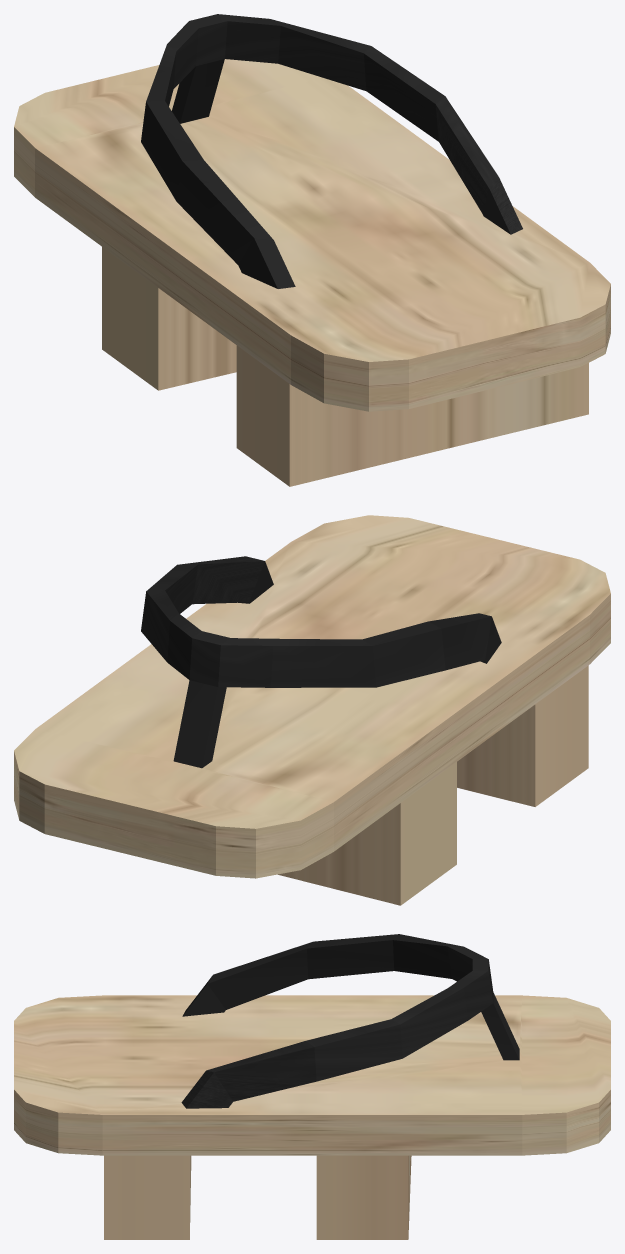
The model's file is getaslipper.fbx.
3 views of the same model, one above another, from view 1: azimuth 30°, elevation 25°; view 2: azimuth 150°, elevation 25°; view 3: azimuth 270°, elevation 25° (orthographic). The views are drawn at different scales.
Parts seen in each view (by area): view 1: Cube; view 2: Cube; view 3: Cube.
Boxes of the visible parts, <box> form: Cube: <box>14,14,610,486</box>; Cube: <box>14,515,610,905</box>; Cube: <box>14,934,610,1239</box>.
Size of the model in its own units: 143 by 120 by 301.
1 material, 1 textured.
